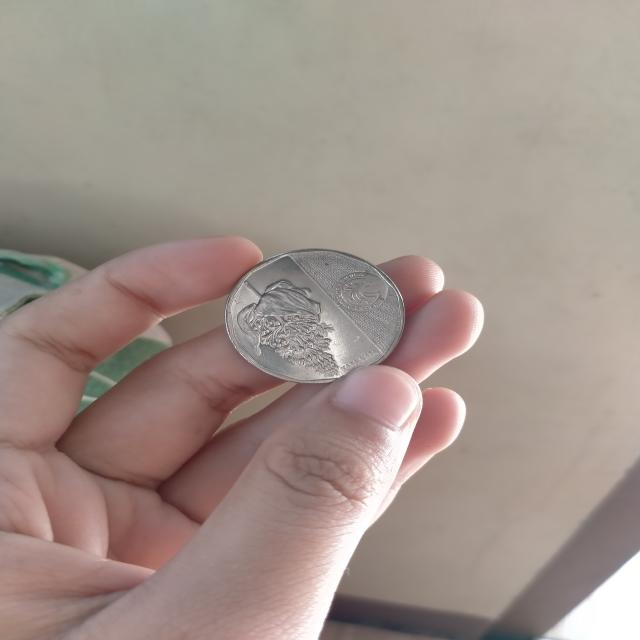10_New_Back: (224, 271, 351, 384)
